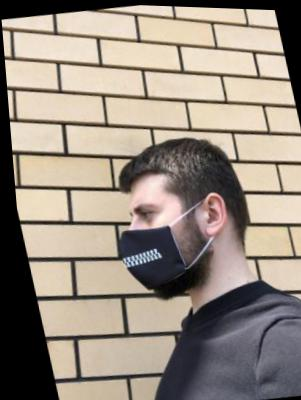WRONG: (108, 191, 191, 305)
